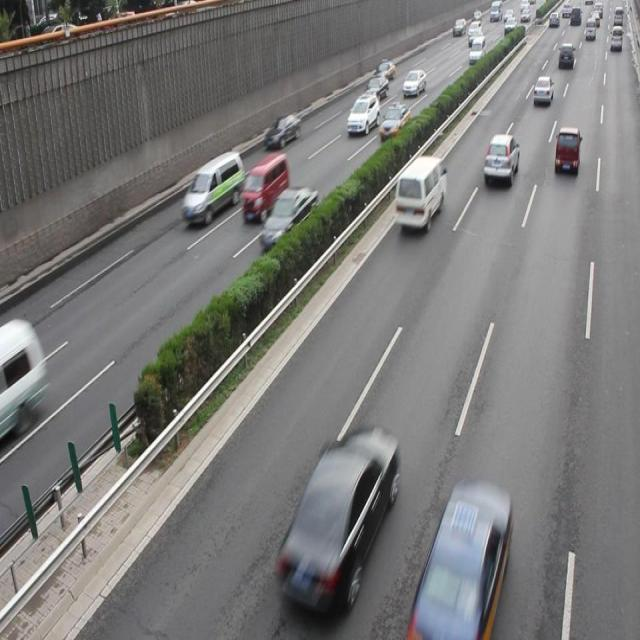car: (275, 427, 396, 602), (416, 483, 510, 640), (259, 186, 318, 250), (481, 133, 519, 187), (346, 93, 379, 135), (264, 113, 300, 151), (553, 127, 579, 175), (378, 104, 411, 140)
truck: (1, 324, 43, 437), (181, 151, 244, 224), (393, 155, 446, 233), (242, 151, 288, 225)
